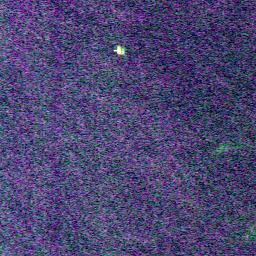Ship: (112, 43, 128, 57)
